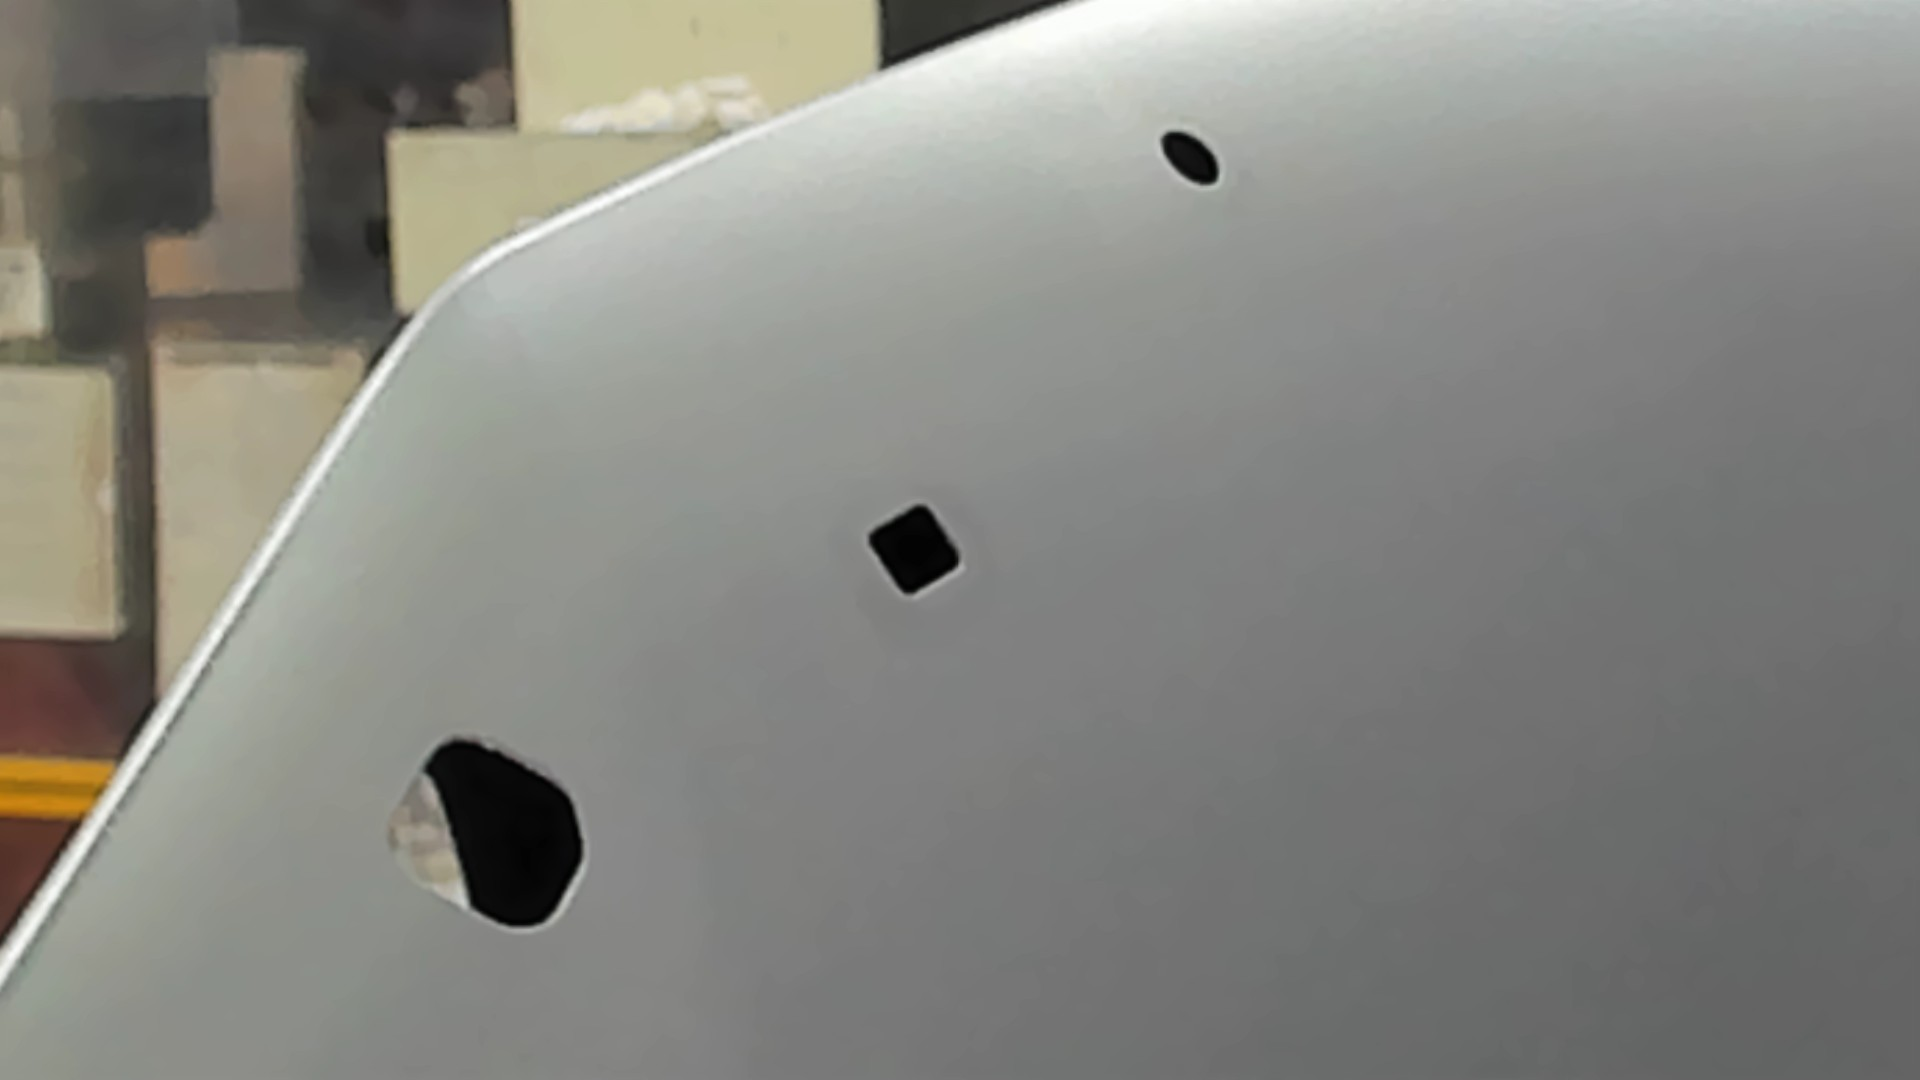capo: (972, 198, 1920, 1080)
chico: (1155, 125, 1226, 193)
grande: (378, 733, 592, 935)
mediano: (860, 492, 968, 600)
